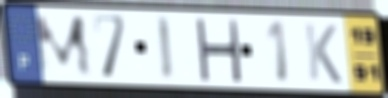1: (264, 18, 290, 87)
7: (92, 13, 127, 80)
H: (192, 16, 244, 84)
I: (154, 14, 176, 83)
K: (302, 21, 345, 87)
M: (31, 13, 95, 78)
